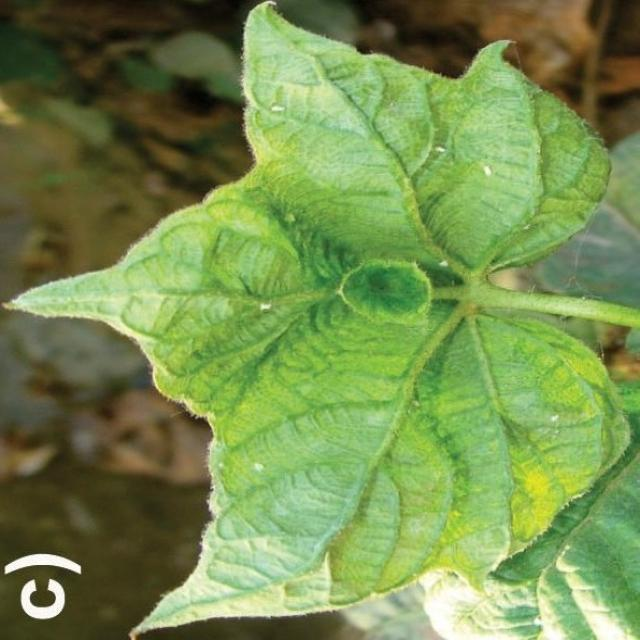Leaf Curl Virus: (191, 67, 546, 547)
